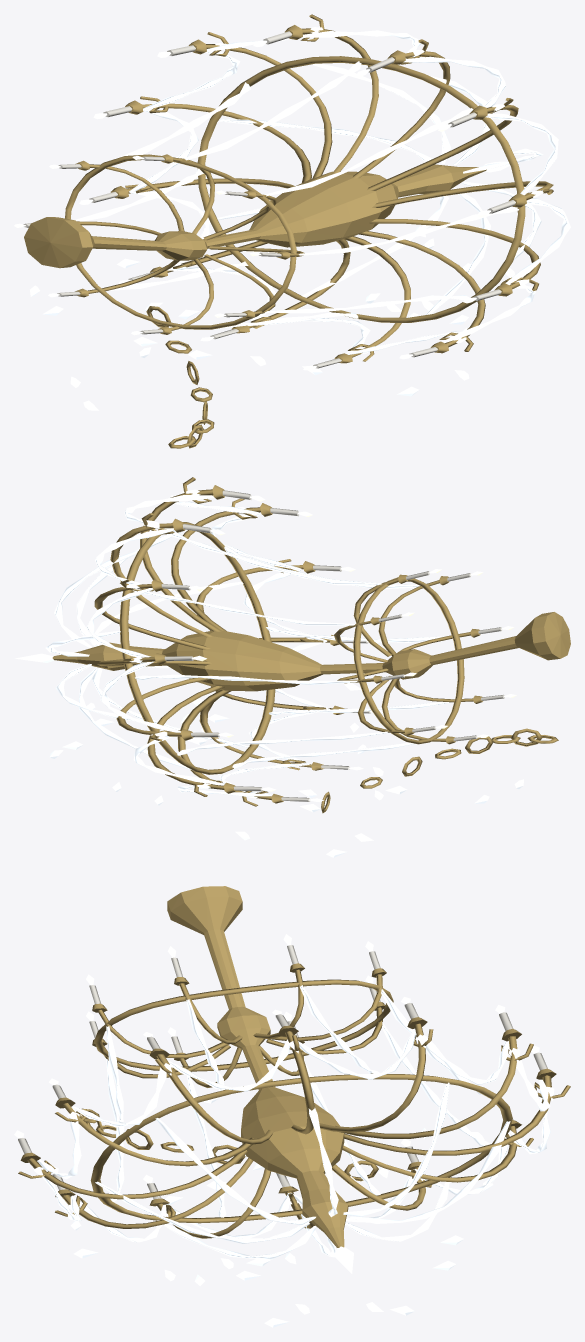
File: chandelier_fallen.glb
3 renders of one model, top to bottom at view 1: azimuth 30°, elevation 25°; view 2: azimuth 150°, elevation 25°; view 3: azimuth 270°, elevation 25°, orthographic. The views are drawn at different scales.
Visible parts, largest first — view 1: brass__chandelier_fallen__solid, crystal__chandelier_fallen__ns, chalk__chandelier_fallen__ns, brass__chandelier_fallen__ns, bulb__chandelier_fallen__ns; view 2: brass__chandelier_fallen__solid, crystal__chandelier_fallen__ns, chalk__chandelier_fallen__ns, brass__chandelier_fallen__ns, bulb__chandelier_fallen__ns; view 3: brass__chandelier_fallen__solid, crystal__chandelier_fallen__ns, chalk__chandelier_fallen__ns, brass__chandelier_fallen__ns, bulb__chandelier_fallen__ns.
Boxes of the visible parts, x1,y1,x2,y2 form: brass__chandelier_fallen__solid: (24,14,553,363); crystal__chandelier_fallen__ns: (30,27,570,410); chalk__chandelier_fallen__ns: (23,31,515,368); brass__chandelier_fallen__ns: (146,306,214,448); bulb__chandelier_fallen__ns: (14,40,490,370); brass__chandelier_fallen__solid: (52,477,570,806); crystal__chandelier_fallen__ns: (15,489,523,857); chalk__chandelier_fallen__ns: (161,490,504,801); brass__chandelier_fallen__ns: (321,728,558,813); bulb__chandelier_fallen__ns: (189,495,516,801); brass__chandelier_fallen__solid: (18,886,570,1247); crystal__chandelier_fallen__ns: (34,985,554,1327); chalk__chandelier_fallen__ns: (18,945,547,1199); brass__chandelier_fallen__ns: (79,1108,378,1181); bulb__chandelier_fallen__ns: (14,934,539,1183).
Size of the model in its own units: 3.5 by 1.55 by 3.
